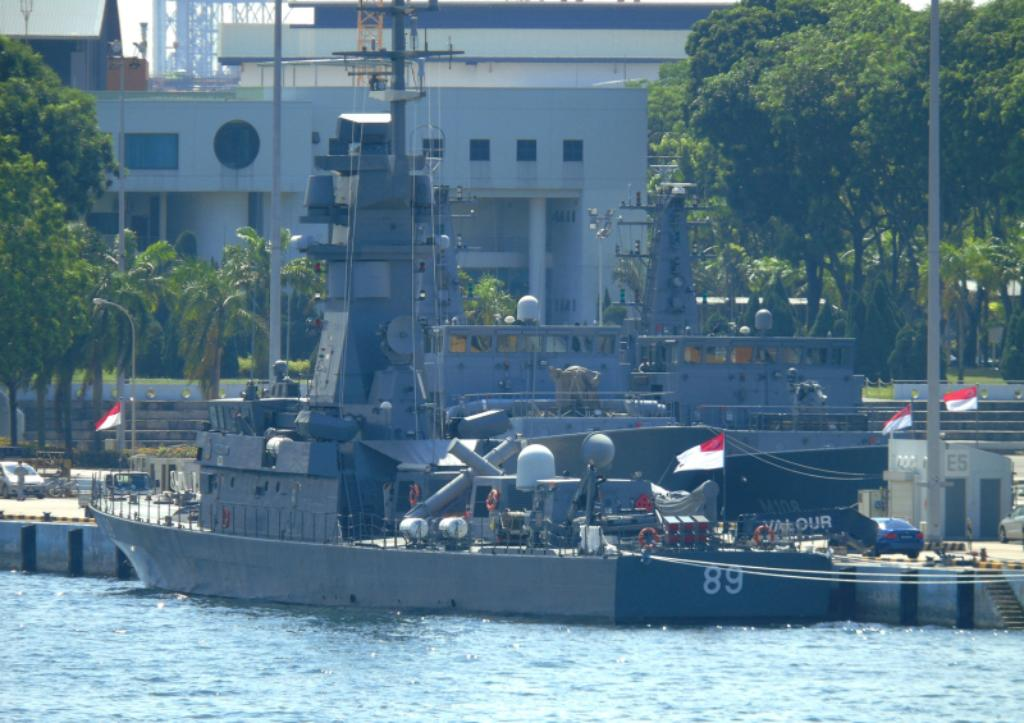Warship: (78, 1, 826, 622)
